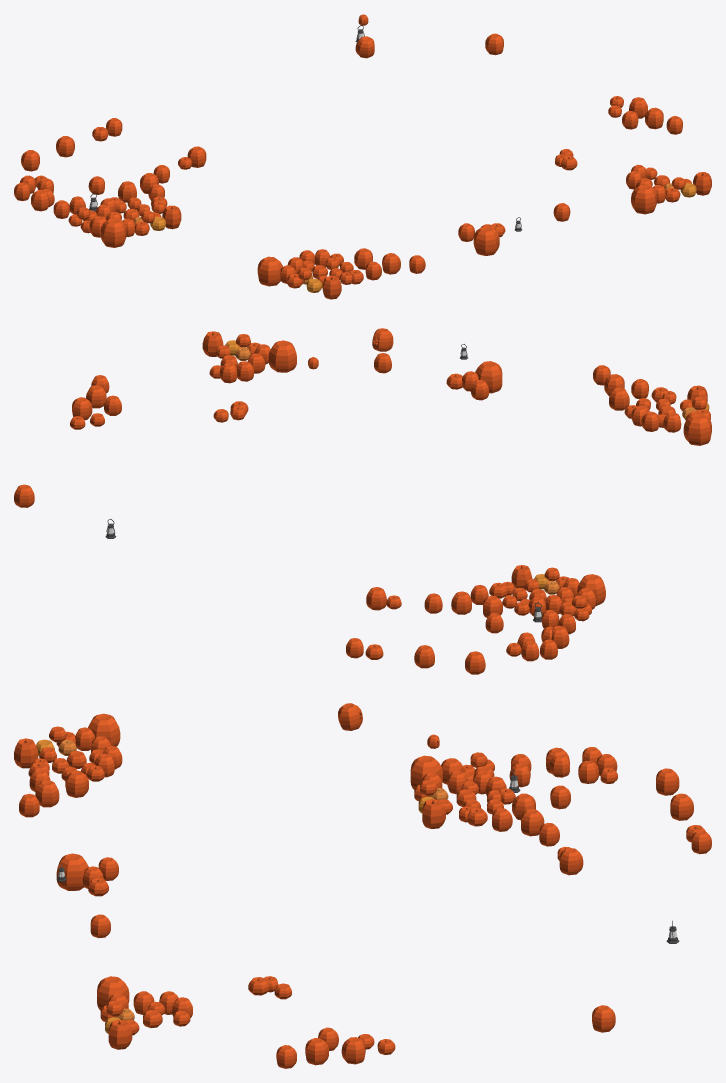
Rendered from citrouille.fbx.
The picture shows the model from 3 angles, top to bottom: view 1: azimuth 30°, elevation 25°; view 2: azimuth 150°, elevation 25°; view 3: azimuth 270°, elevation 25°; orthographic projection. The views are drawn at different scales.
Parts seen in each view (by area): view 1: citrouille2.045, citrouille2.003, citrouille2.035, citrouille2.030; view 2: citrouille2.035, citrouille2.030, citrouille2.045; view 3: citrouille2.045, citrouille2.030, citrouille2.003, citrouille2.035, citrouille1.046, citrouille1.014, citrouille1.025, citrouille2.042.
Part boxes in pixels (x1,y1,x2,y2): citrouille2.045: (473,226,499,255); citrouille2.003: (100,218,126,247); citrouille2.035: (631,184,657,214); citrouille2.030: (257,256,282,286); citrouille2.035: (268,340,296,372); citrouille2.030: (683,413,711,445); citrouille2.045: (475,361,502,393); citrouille2.045: (56,853,88,890); citrouille2.030: (88,713,120,746); citrouille2.003: (410,755,442,789); citrouille2.035: (97,976,129,1010); citrouille1.046: (108,1019,132,1049); citrouille1.014: (422,799,445,828); citrouille1.025: (14,738,38,768); citrouille2.042: (338,703,362,730).
Bounding box in the file's own units: 5728 × 1742 × 4991.
